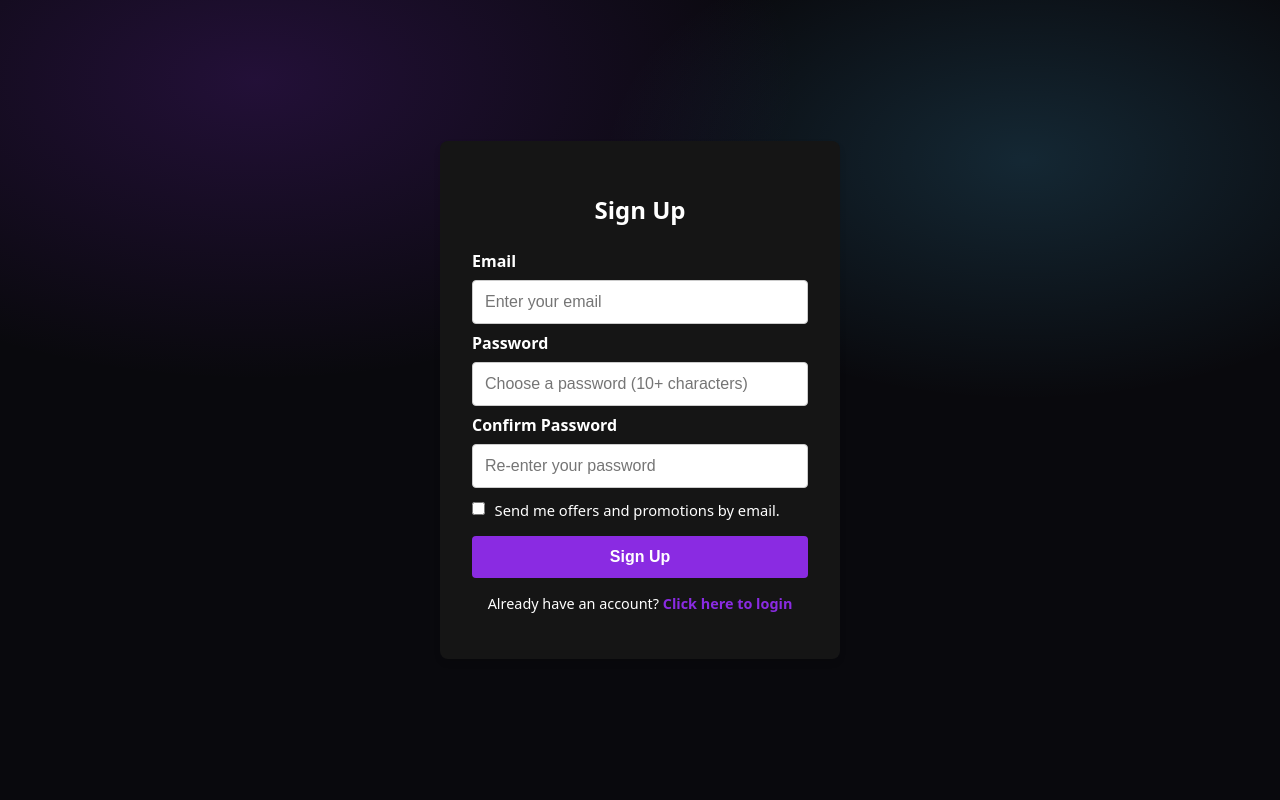
SignUp › shows validation error when passwords do not match
Type "user@example.com" into the field labelled "Email" at [640, 302], box [472,280,808,324]
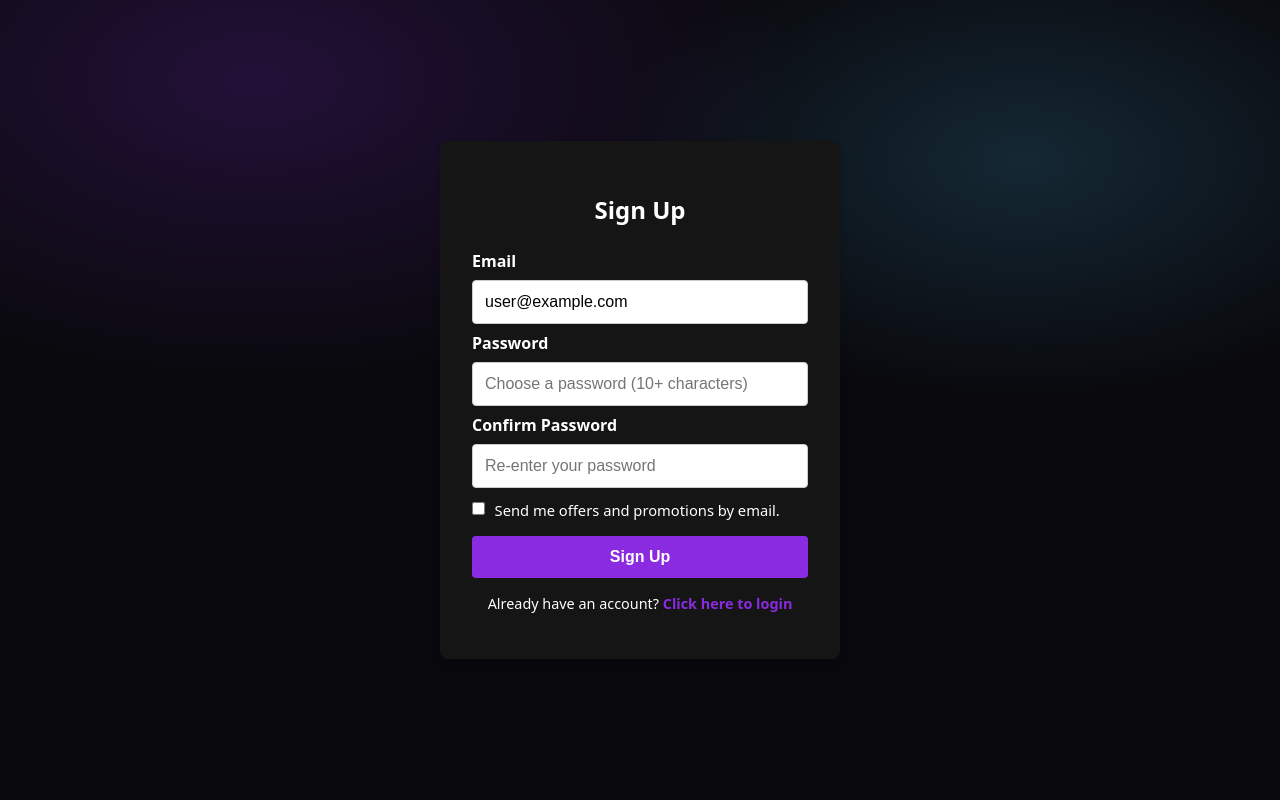
Type "strongpassword1" into the password field labelled "Password" at [640, 384], box [472,362,808,406]
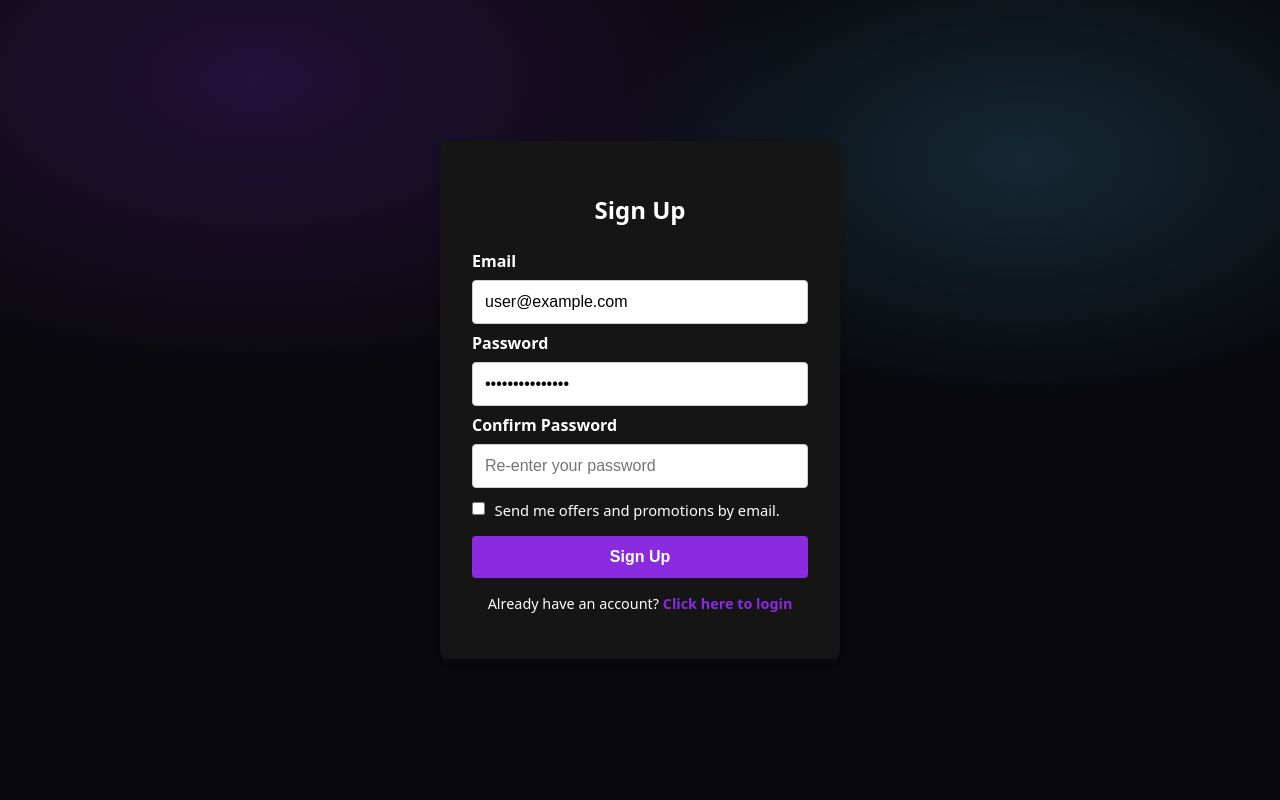
Type "strongpassword2" into the password field labelled "Confirm Password" at [640, 466], box [472,444,808,488]
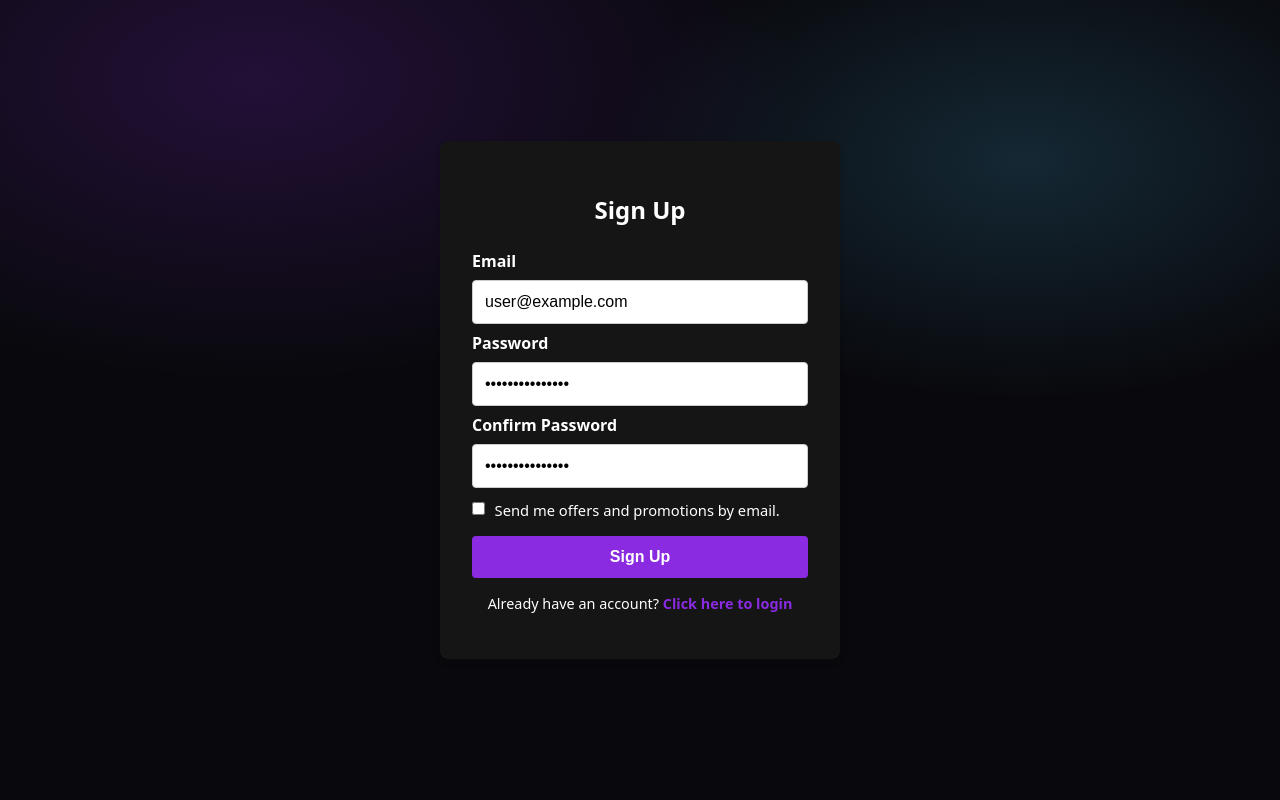
Click the button "Sign Up" at [640, 557], box [472,536,808,578]
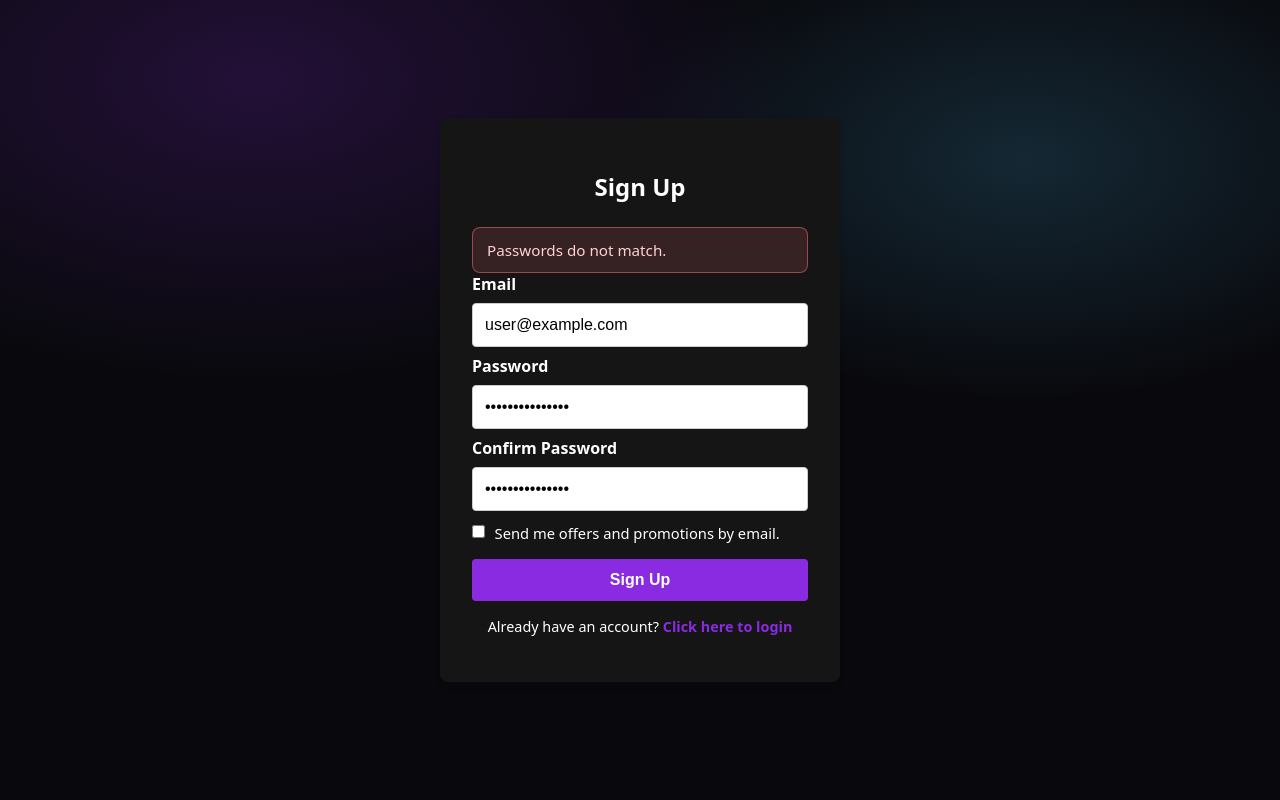
Result: the text "Passwords do not match." is shown at [472,227,808,273]
